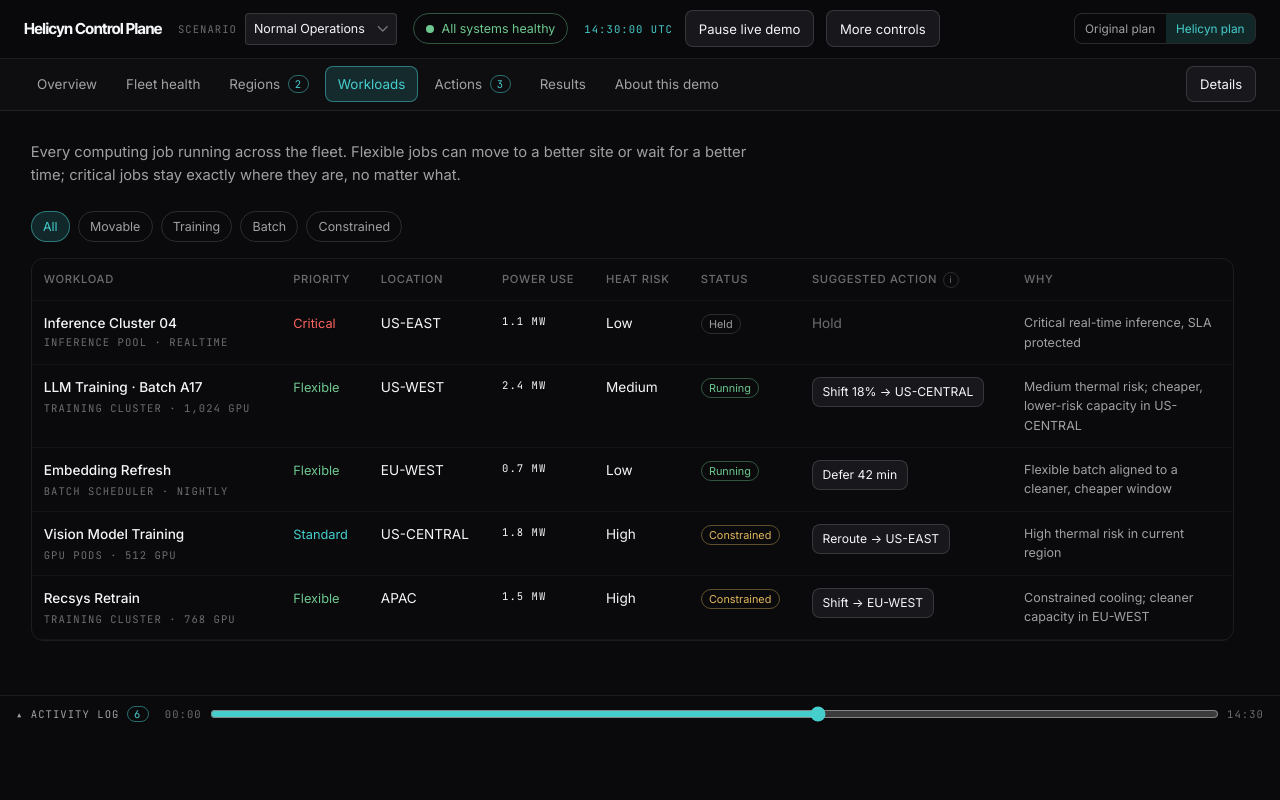
it: Control Plane app shell › selecting a workload updates the inspector and offers staging
Click the button titled "Inspect this workload": [147, 396] box left=44, top=377, right=250, bottom=416
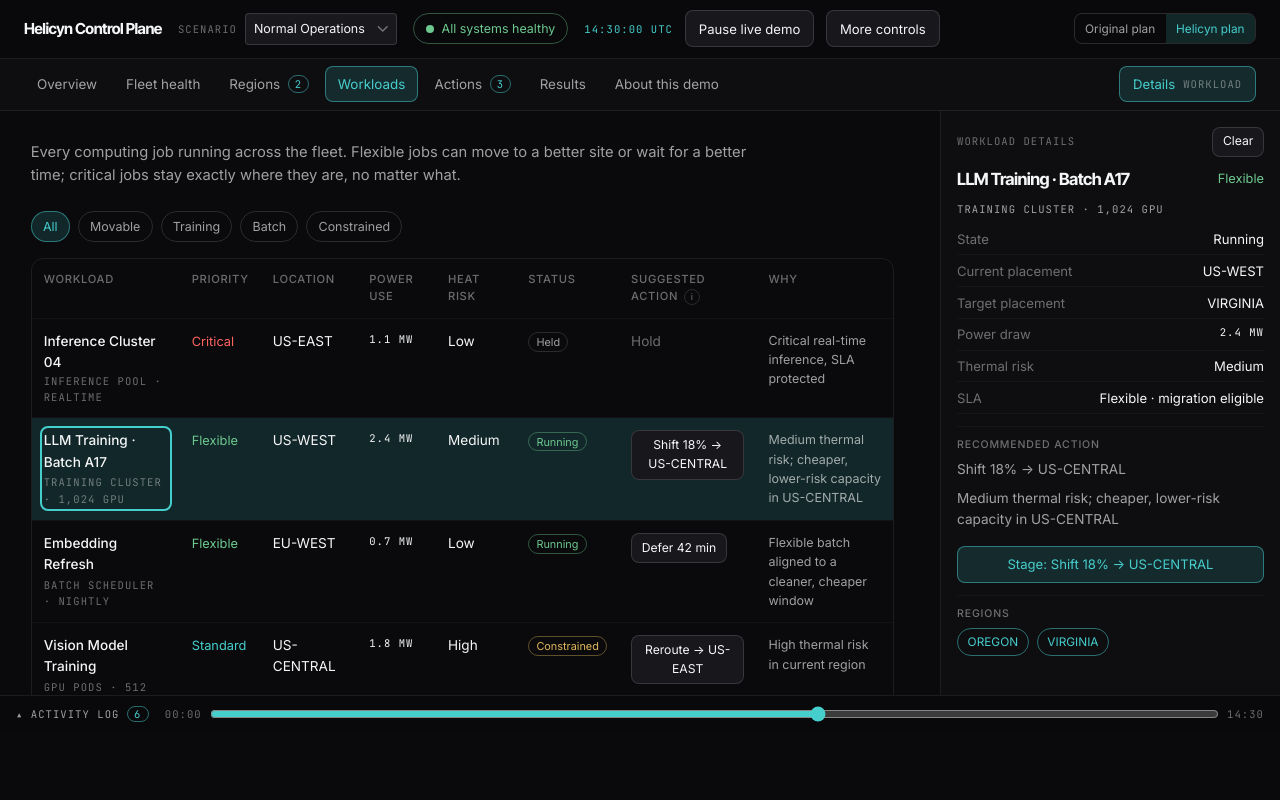
Expected: the text "Current placement" is shown, left=957, top=261, right=1072, bottom=281
Expected: the button "Stage: Shift 18% → US-CENTRAL" is shown, left=957, top=546, right=1264, bottom=583
